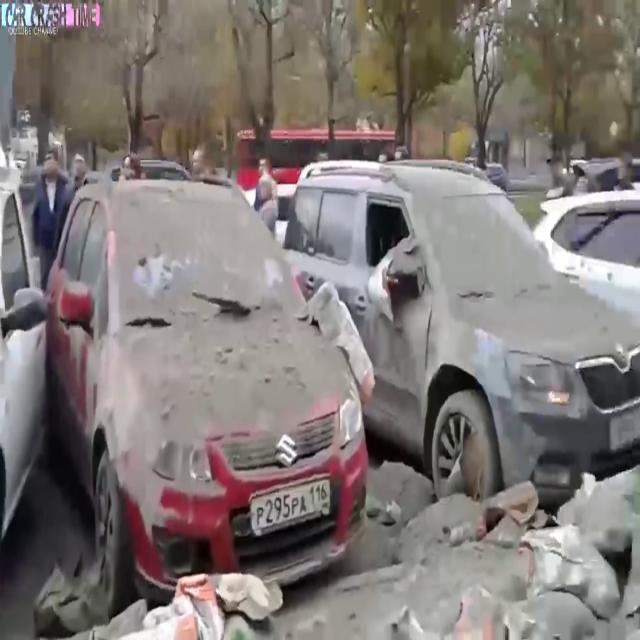Accident: (297, 68, 640, 492), (82, 116, 353, 585)
